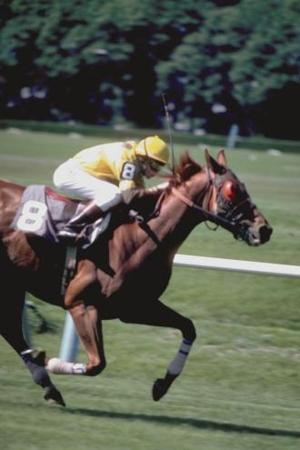person: (51, 129, 171, 250)
